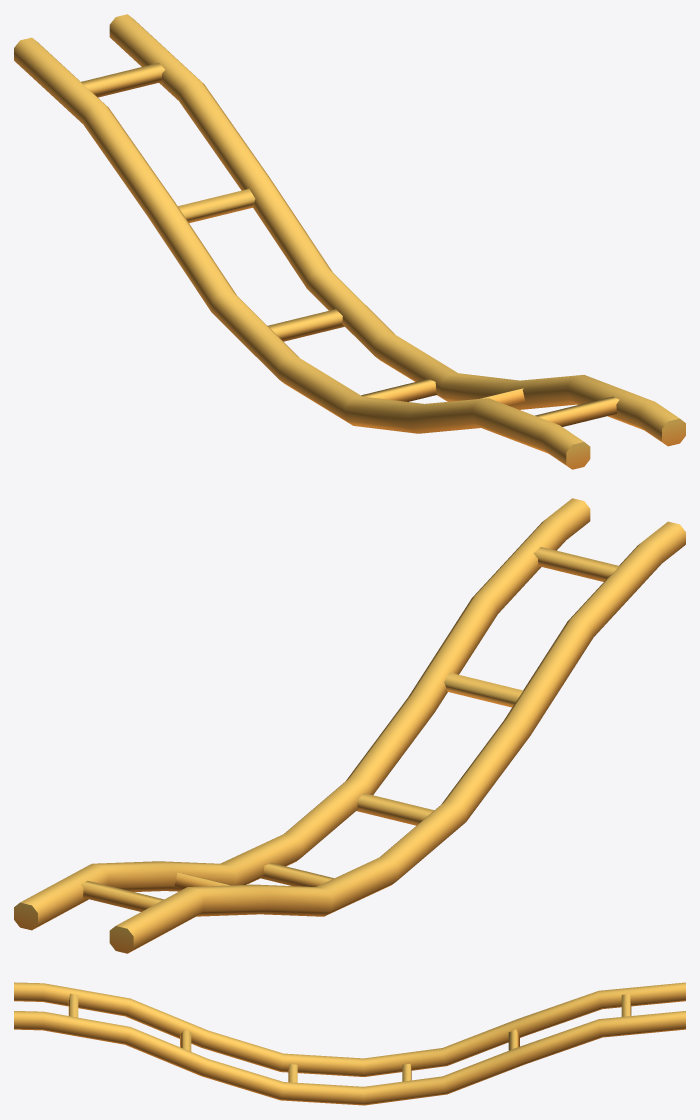
The model's file is coaster-mouse-straight-bump-down.glb.
The picture shows the model from 3 angles, top to bottom: view 1: azimuth 30°, elevation 25°; view 2: azimuth 150°, elevation 25°; view 3: azimuth 270°, elevation 25°; orthographic projection. The views are drawn at different scales.
Parts seen in each view (by area): view 1: coaster-mouse-straight-bump-down; view 2: coaster-mouse-straight-bump-down; view 3: coaster-mouse-straight-bump-down.
Boxes of the visible parts, bbox=[...] form: coaster-mouse-straight-bump-down: bbox=[14, 14, 685, 469]; coaster-mouse-straight-bump-down: bbox=[14, 498, 685, 953]; coaster-mouse-straight-bump-down: bbox=[14, 982, 685, 1105].
Size of the model in its own units: 0.5 by 0.5987 by 4.
1 material, 1 textured.
